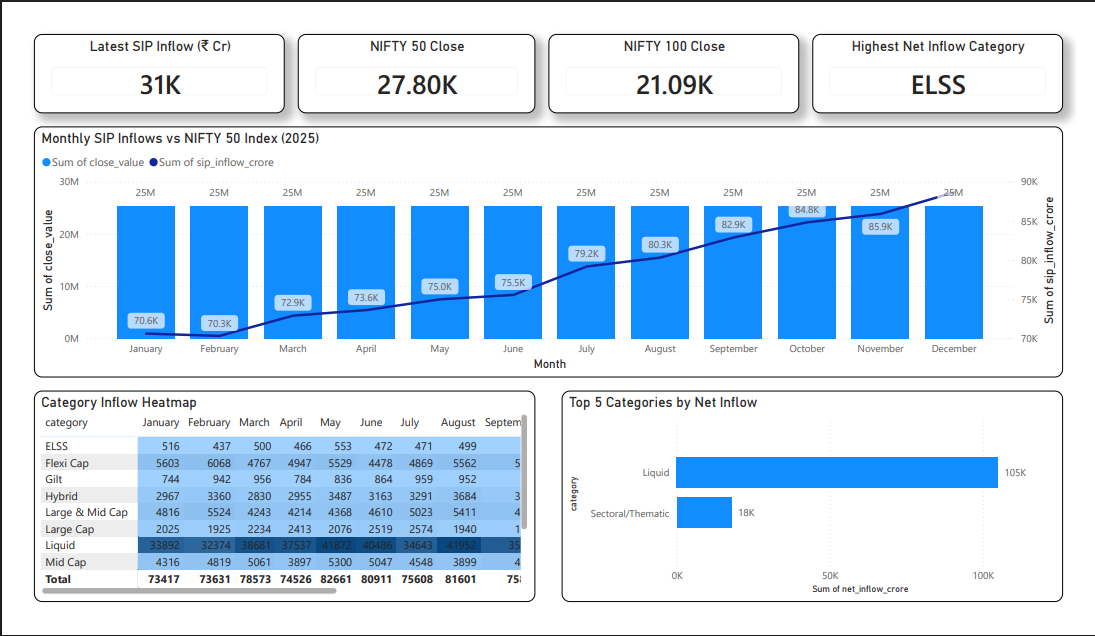

The page's visual inventory and layout, read from the dashboard file:
{"tool":"powerbi","page":{"name":"SIP & Market Trends","canvas":[1280,720],"ordinal":3},"visuals":[{"type":"cardVisual","title":"Latest SIP Inflow (₹ Cr)","fields":{"Data":["_Measures.Latest SIP"]},"box":[16,16,304,96],"z":0},{"type":"cardVisual","title":"NIFTY 50 Close","fields":{"Data":["_Measures.Latest NIFTY50"]},"box":[336,16,288,96],"z":1000},{"type":"cardVisual","title":"NIFTY 100 Close","fields":{"Data":["_Measures.Latest NIFTY100"]},"box":[640,16,304,96],"z":2000},{"type":"cardVisual","title":"Highest Net Inflow Category","fields":{"Data":["_Measures.Top Category"]},"box":[960,16,304,96],"z":3000},{"type":"lineClusteredColumnComboChart","title":"Monthly SIP Inflows vs NIFTY 50 Index (2025)","fields":{"Y":["Sum(Benchmark.close_value)"],"Category":["SIP.month.Variation.Date Hierarchy.Month"],"Y2":["Sum(SIP.sip_inflow_crore)"]},"box":[16,128,1248,304],"z":4000},{"type":"pivotTable","title":"Category Inflow Heatmap","fields":{"Rows":["CategoryInflows.category"],"Columns":["CategoryInflows.month.Variation.Date Hierarchy.Month"],"Values":["Sum(CategoryInflows.net_inflow_crore)"]},"box":[16,448,608,256],"z":5000},{"type":"clusteredBarChart","title":"Top 5 Categories by Net Inflow","fields":{"Category":["CategoryInflows.category"],"Y":["Sum(CategoryInflows.net_inflow_crore)"]},"box":[656,448,608,256],"z":6000}]}

Visuals, with their boxes on the page's 1280x720 design canvas (x1, y1, x2, y2). These are canvas units, not pixel positions in the 1095x636 screenshot, which may show the page scaled, cropped or inside an application window:
"Latest SIP Inflow (₹ Cr)" cardVisual: [16,16,320,112]
"NIFTY 50 Close" cardVisual: [336,16,624,112]
"NIFTY 100 Close" cardVisual: [640,16,944,112]
"Highest Net Inflow Category" cardVisual: [960,16,1264,112]
"Monthly SIP Inflows vs NIFTY 50 Index (2025)" lineClusteredColumnComboChart: [16,128,1264,432]
"Category Inflow Heatmap" pivotTable: [16,448,624,704]
"Top 5 Categories by Net Inflow" clusteredBarChart: [656,448,1264,704]
